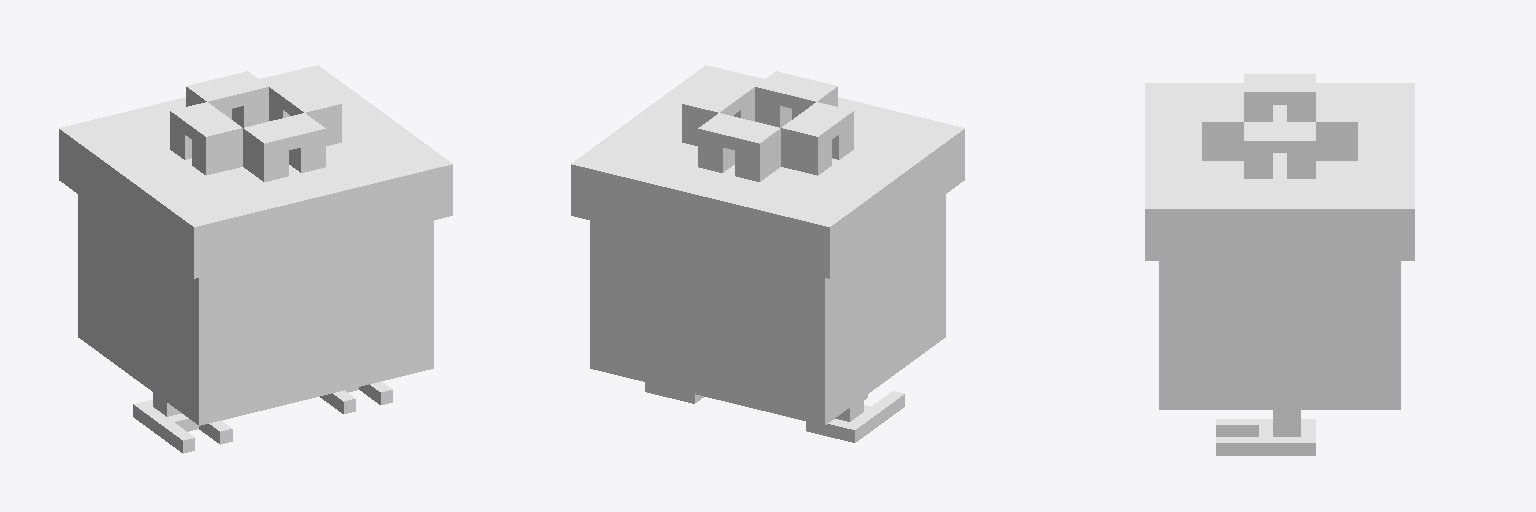
The model's file is randbox.obj.
3 views of the same model, side by side, from view 1: azimuth 30°, elevation 25°; view 2: azimuth 150°, elevation 25°; view 3: azimuth 270°, elevation 25° (orthographic).
Size of the model in its own units: 21 by 23 by 19.